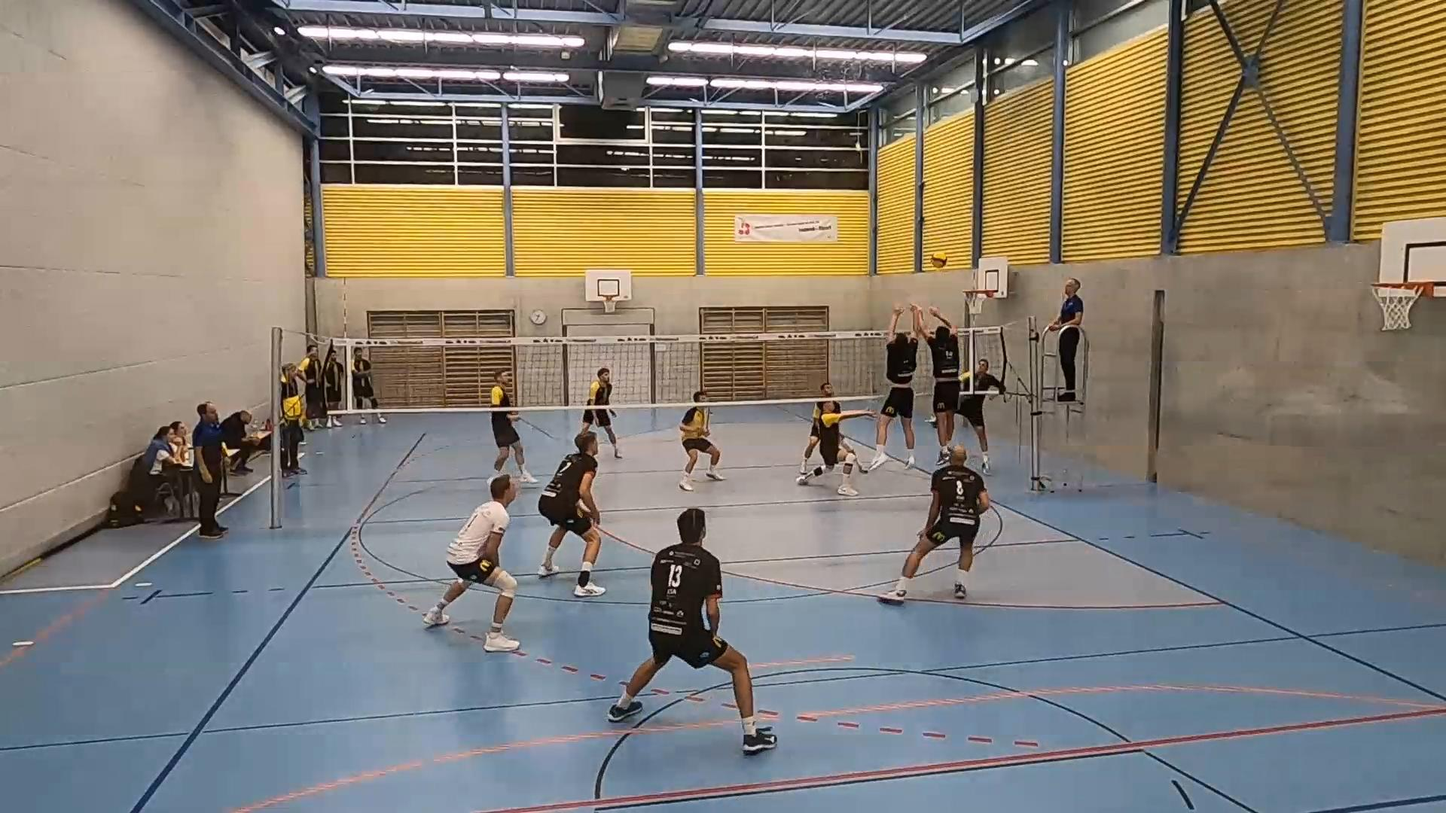Attack: (952, 354, 1010, 474)
Block: (875, 301, 925, 471), (920, 300, 969, 469)
Player: (608, 508, 776, 754), (879, 445, 989, 603), (423, 474, 518, 651), (538, 433, 605, 597), (797, 400, 874, 496), (490, 370, 536, 483), (679, 391, 725, 491), (581, 368, 620, 458), (799, 382, 834, 474)
ball: (931, 255, 954, 269)
